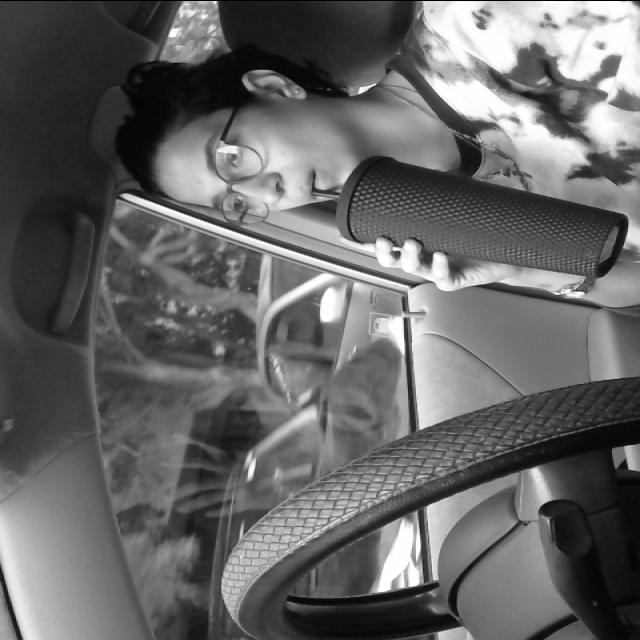drinking: (306, 150, 630, 284)
